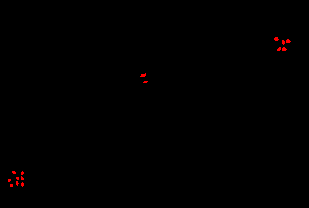Target: (140, 73, 146, 77), (274, 37, 279, 41), (286, 39, 291, 43), (282, 47, 287, 51), (277, 47, 281, 51), (282, 40, 285, 45), (16, 181, 19, 186), (21, 182, 24, 187), (12, 171, 16, 174), (21, 171, 24, 175), (21, 176, 24, 180), (143, 81, 148, 83), (16, 177, 19, 180), (8, 179, 11, 182), (10, 184, 13, 187)
